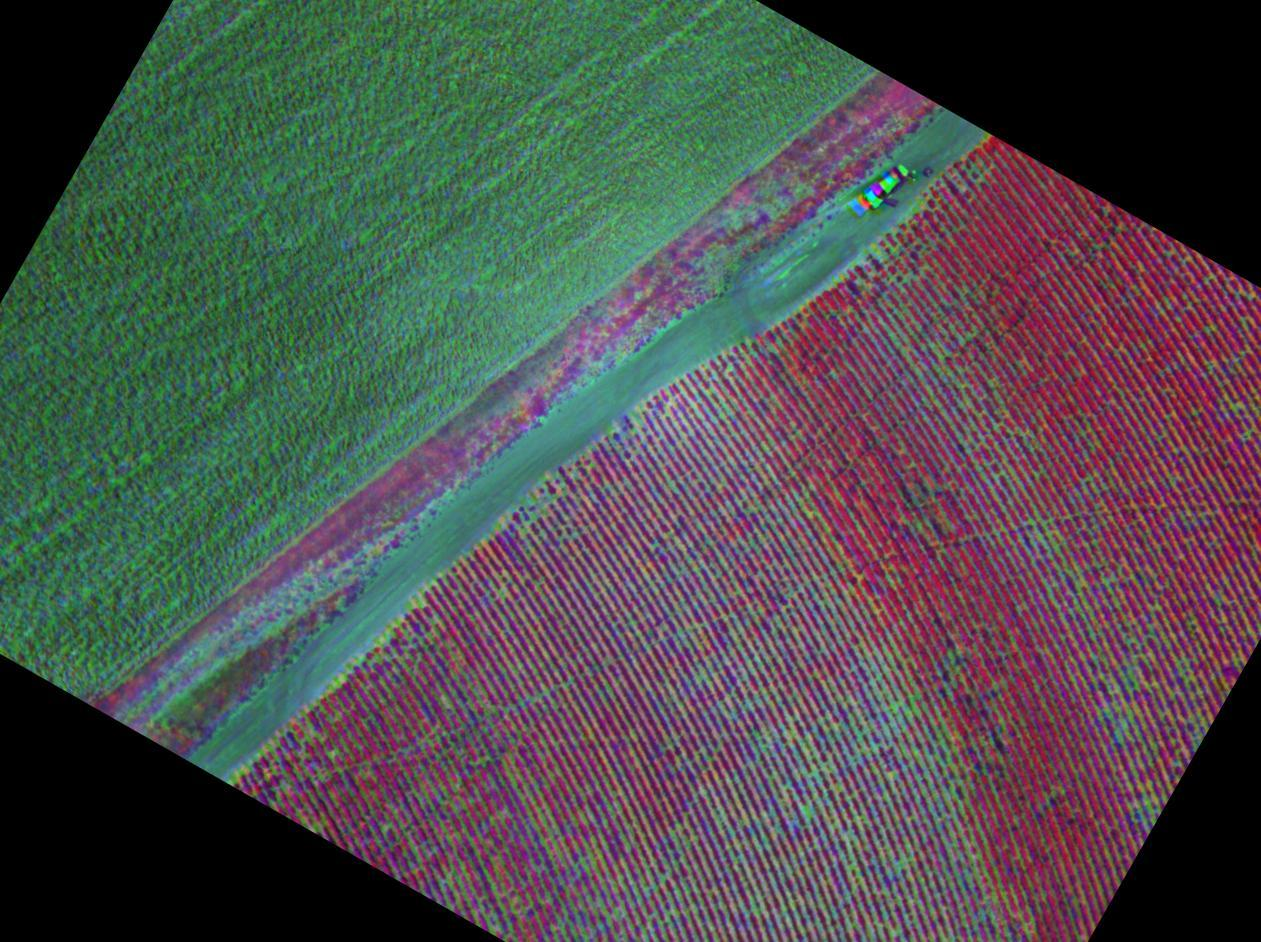dc: (966, 399, 971, 405), (1232, 403, 1237, 409), (945, 351, 950, 355), (1055, 544, 1059, 549), (696, 676, 699, 680), (722, 615, 725, 618)
